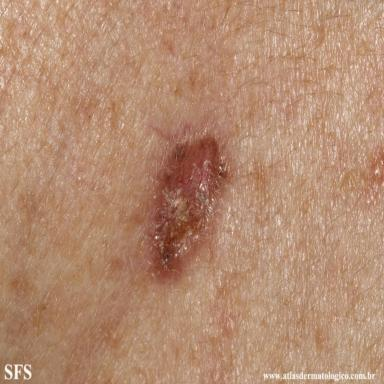basal-cell-carcinoma: (148, 136, 232, 281)
